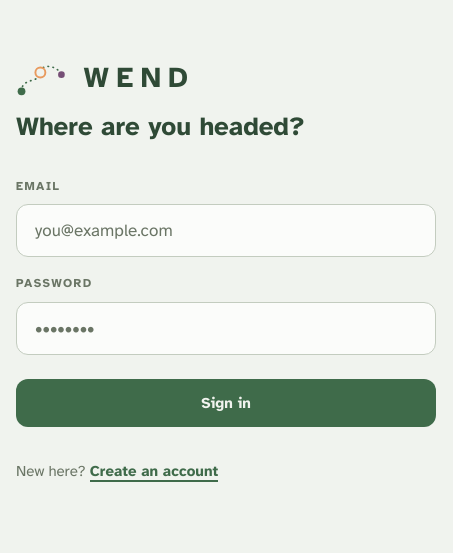
SignIn › switches to the sign-up form and back
Step 1. Click the button "Create an account" → (154, 472), box 90,462 -> 218,482
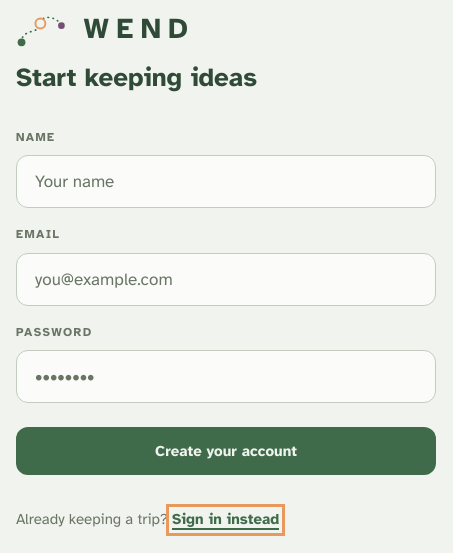
Expected: the field labelled "Name" is shown, 33,170 -> 419,194
Step 2. Click the button "Sign in instead" → (226, 520), box 172,510 -> 279,530
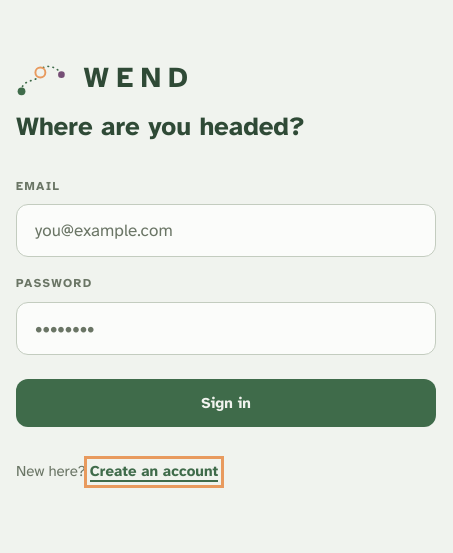
Expected: the label labelled "Name" is gone
